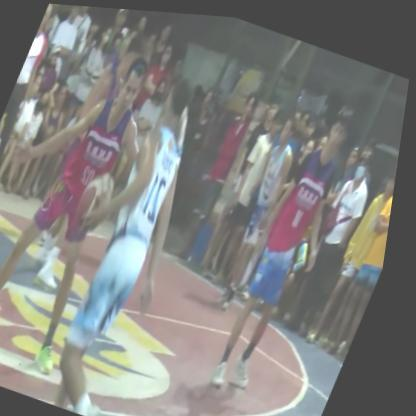basketball: (69, 165, 125, 240)
